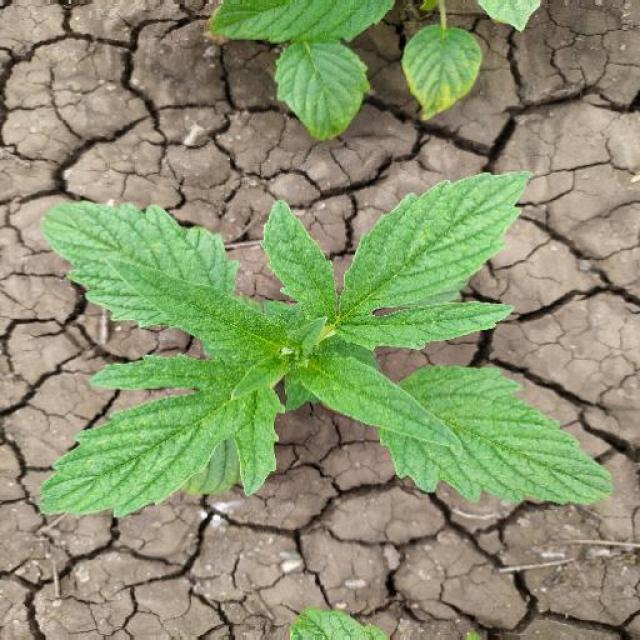crop: (37, 169, 618, 530)
